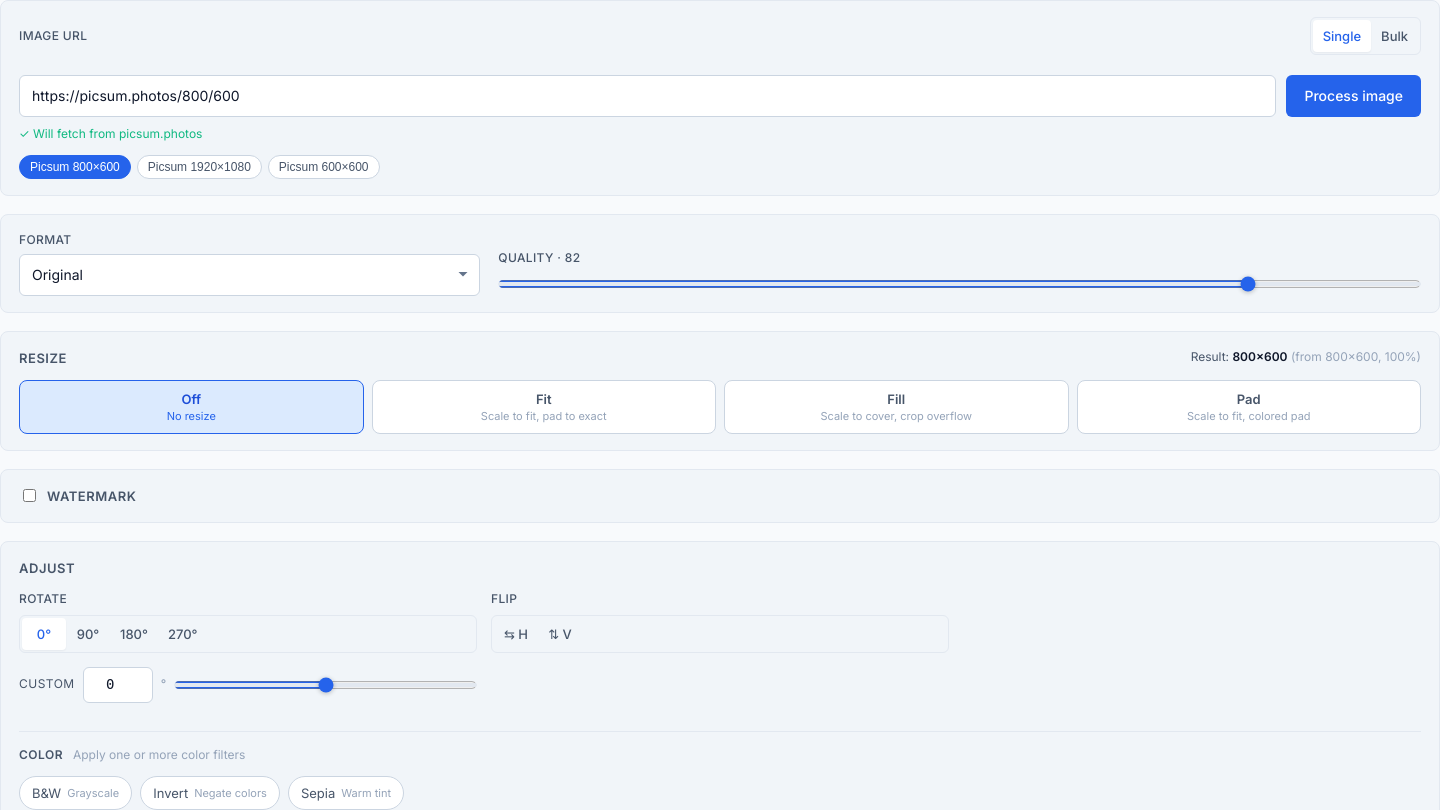
Test: JobForm › clicking a resize mode toggles the size inputs
expect the field labelled "width" is not shown: met
Note: Click Fit
What coordinates should you click on to do the following:
click the radio button labelled "Fit Scale to fit, pad to exact"
I would click on:
 (544, 407)
Its box is [372,380,716,434].
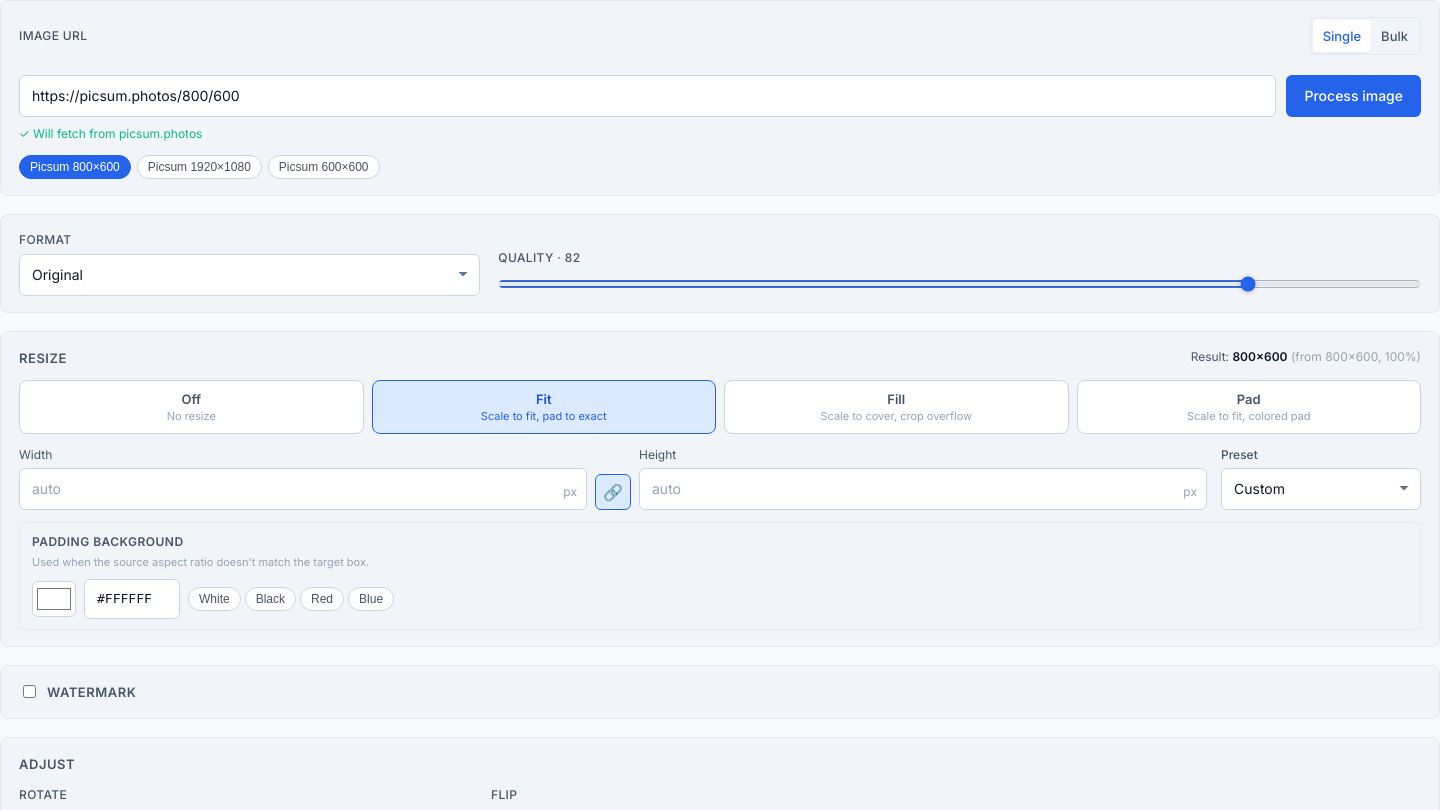
expect the number field labelled "Width" is shown: met, box [19,468,587,510]
expect the number field labelled "Height" is shown: met, box [639,468,1207,510]
